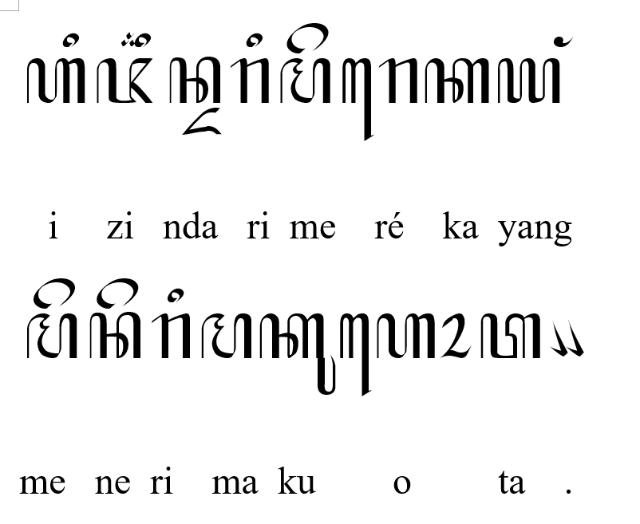_d: (181, 107, 221, 135)
alt: (122, 31, 138, 47)
e: (96, 278, 140, 310), (286, 22, 328, 54), (34, 278, 76, 310)
e1: (342, 58, 374, 142), (339, 314, 371, 397)
h: (26, 56, 86, 106), (376, 314, 436, 361)
i: (61, 32, 80, 48), (246, 32, 264, 48), (166, 288, 184, 302), (135, 32, 151, 46)
k: (424, 57, 490, 105), (95, 57, 155, 105)
kom: (548, 320, 568, 357), (566, 319, 584, 357)
ku: (258, 313, 336, 395)
m: (202, 310, 252, 360), (27, 312, 78, 360), (279, 58, 331, 104)
n: (168, 56, 220, 104), (90, 311, 142, 359)
ng: (553, 35, 573, 47)
o: (441, 313, 472, 359)
r: (230, 56, 270, 104), (378, 58, 418, 104), (151, 312, 191, 358)
t: (480, 312, 542, 360)
y: (497, 58, 561, 104)
